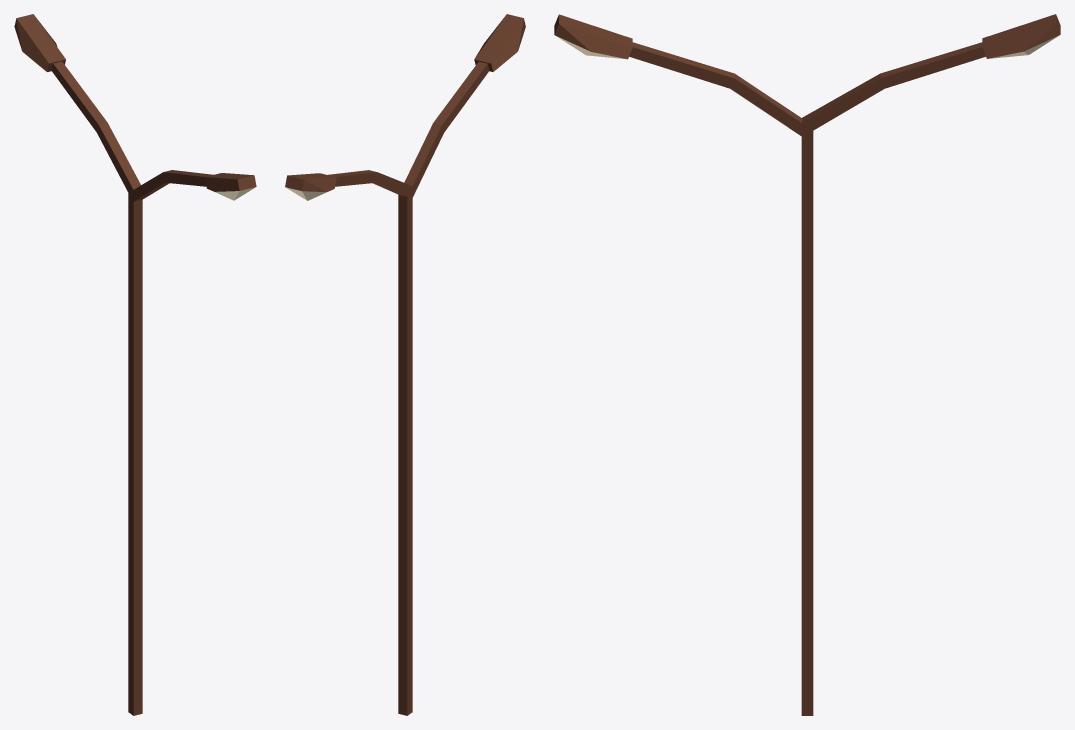
Rendered from Prop_Light_Road_B.fbx.
3 renders of one model, left to right at view 1: azimuth 30°, elevation 25°; view 2: azimuth 150°, elevation 25°; view 3: azimuth 270°, elevation 25°, orthographic. The views are drawn at different scales.
Visible parts, largest first — view 1: Prop_Light_Road_B; view 2: Prop_Light_Road_B; view 3: Prop_Light_Road_B.
Boxes of the visible parts, x1,y1,x2,y2 form: Prop_Light_Road_B: (14,14,256,715); Prop_Light_Road_B: (285,14,525,715); Prop_Light_Road_B: (554,14,1060,715).
Size of the model in its own units: 57.91 by 985 by 651.
